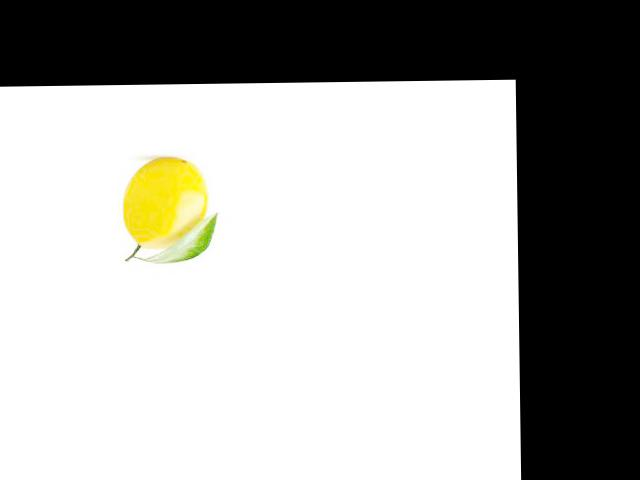lemon: (116, 149, 213, 257)
